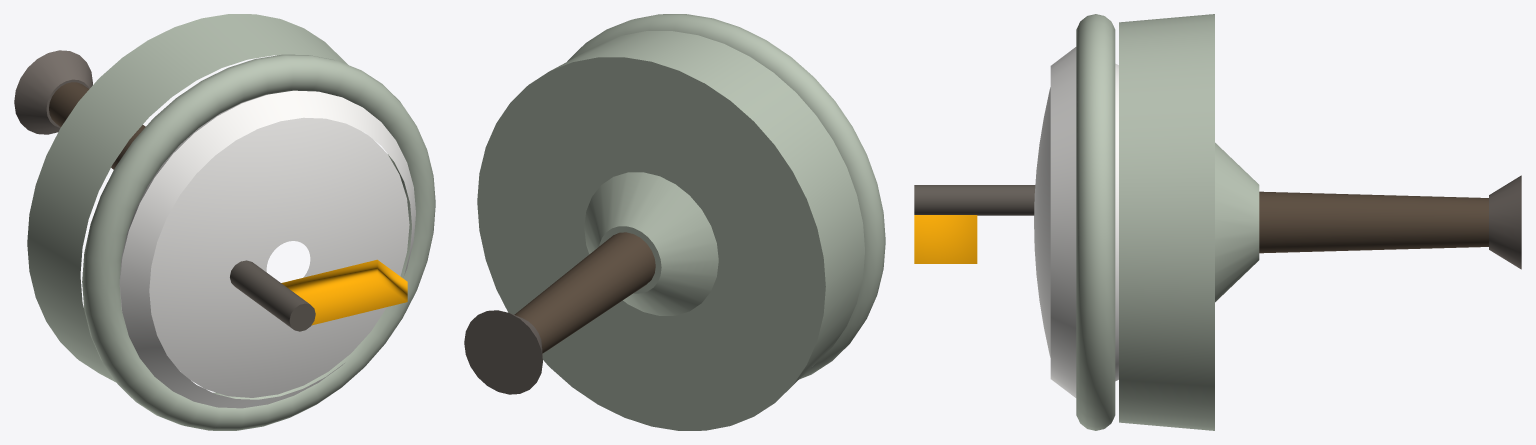
File: pin-finish-out.glb
The picture shows the model from 3 angles, left to right: view 1: azimuth 30°, elevation 25°; view 2: azimuth 150°, elevation 25°; view 3: azimuth 270°, elevation 25°; orthographic projection. The views are drawn at different scales.
Visible parts, largest first — view 1: plate_dome, ring, head, plate_bevel, flag, foot, pole, stem, plate_wall; view 2: head, collar, ring, stem, foot; view 3: head, ring, stem, plate_bevel, collar, pole, plate_dome, flag, foot, plate_wall.
Part boxes in pixels (x1,y1,x2,y2): plate_dome: (149, 117, 409, 397); ring: (82, 54, 435, 430); head: (27, 14, 347, 382); plate_bevel: (120, 90, 415, 408); flag: (281, 259, 407, 325); foot: (14, 50, 92, 134); pole: (230, 260, 315, 331); stem: (49, 82, 145, 169); plate_wall: (119, 91, 290, 311); head: (477, 31, 864, 430); collar: (584, 172, 718, 315); ring: (567, 14, 885, 378); stem: (514, 232, 655, 353); foot: (464, 310, 542, 394); head: (1119, 14, 1214, 430); ring: (1076, 14, 1115, 430); stem: (1259, 191, 1488, 253); plate_bevel: (1050, 47, 1076, 397); collar: (1215, 142, 1259, 302); pole: (914, 185, 1035, 215); plate_dome: (1034, 87, 1050, 357); flag: (914, 215, 977, 263); foot: (1489, 175, 1521, 269); plate_wall: (1115, 63, 1118, 381).
Bounding box in the file's own units: 0.796 × 0.796 × 1.16.
